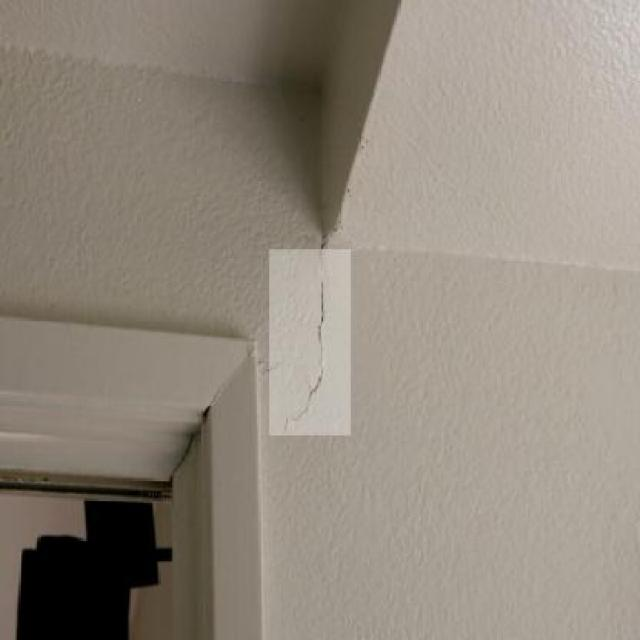Crack: (287, 248, 344, 438)
